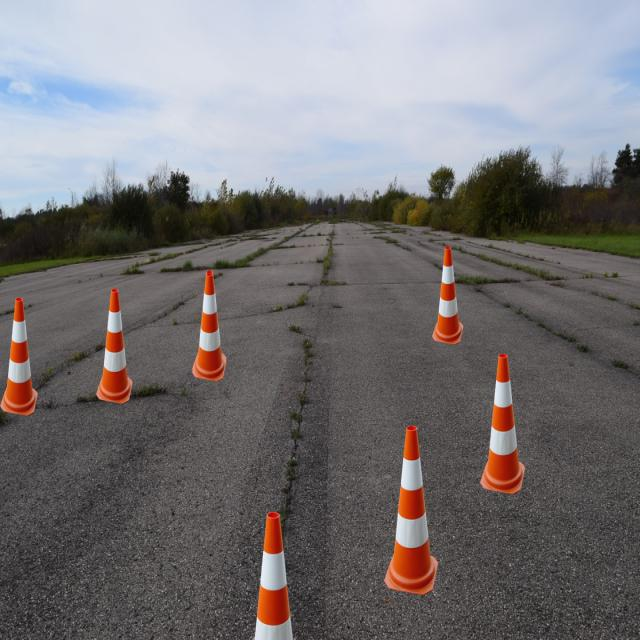cone: (388, 426, 442, 595), (240, 512, 306, 640), (480, 354, 525, 494), (0, 298, 38, 416), (96, 289, 133, 404), (193, 273, 227, 382), (432, 246, 463, 345)
